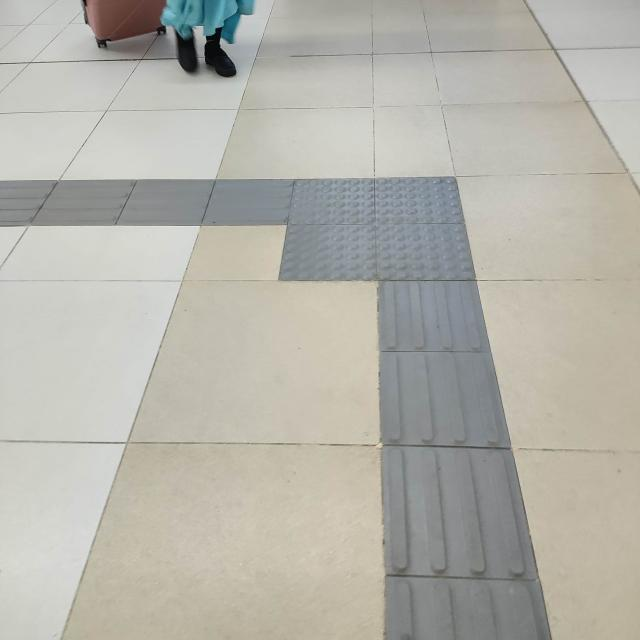kiri: (156, 133, 538, 350)
